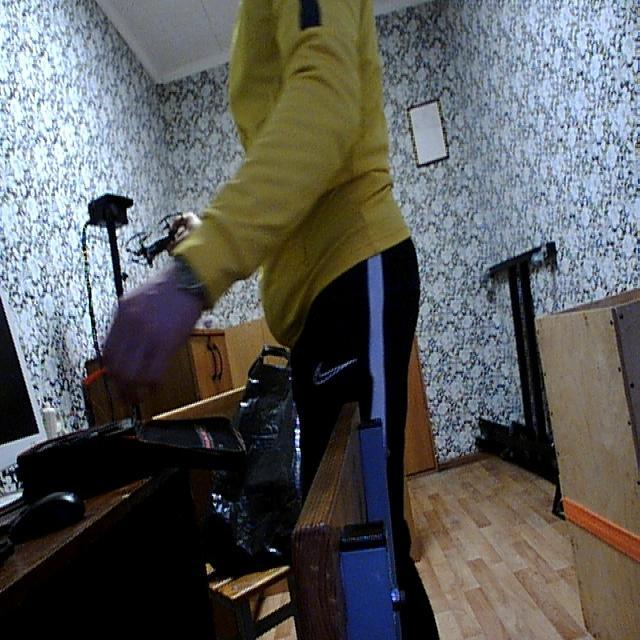drones: (122, 195, 218, 282)
